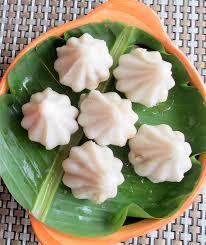modak: (105, 46, 184, 107), (130, 122, 193, 190), (75, 87, 142, 148), (64, 143, 127, 206), (54, 34, 119, 93), (21, 89, 82, 151)
